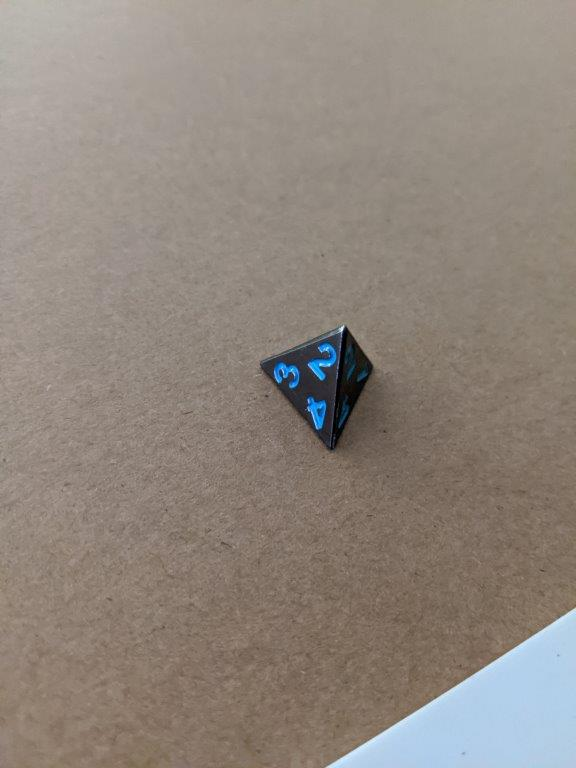d4-2: (252, 321, 378, 452)
